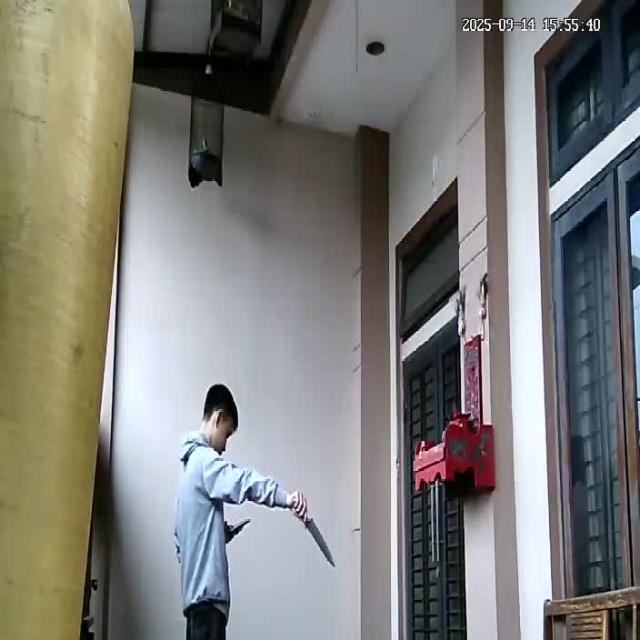senjata_tajam: (305, 516, 338, 570)
